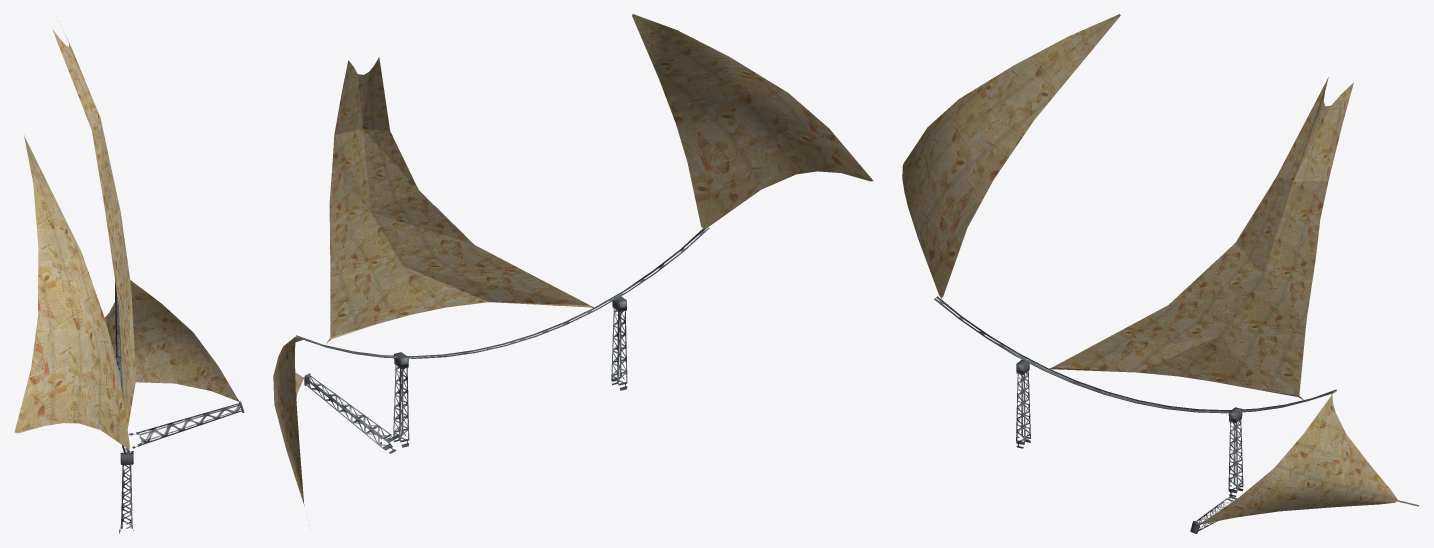
The model's file is SailAssemblyLeft.fbx.
3 renders of one model, left to right at view 1: azimuth 30°, elevation 25°; view 2: azimuth 150°, elevation 25°; view 3: azimuth 270°, elevation 25°, orthographic. The views are drawn at different scales.
Visible parts, largest first — view 1: Plane.005; view 2: Plane.005; view 3: Plane.005.
Part boxes in pixels (box(x1,y1,x2,y2)): Plane.005: box(14, 21, 244, 533); Plane.005: box(273, 14, 873, 505); Plane.005: box(902, 14, 1418, 533).
Bounding box in the file's own units: 1340 × 1392 × 1541.
